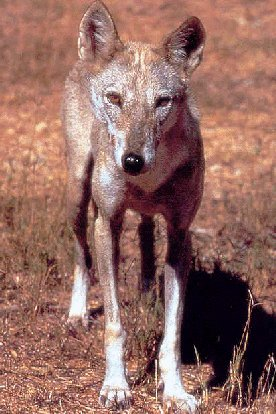wolf: (52, 7, 217, 414)
